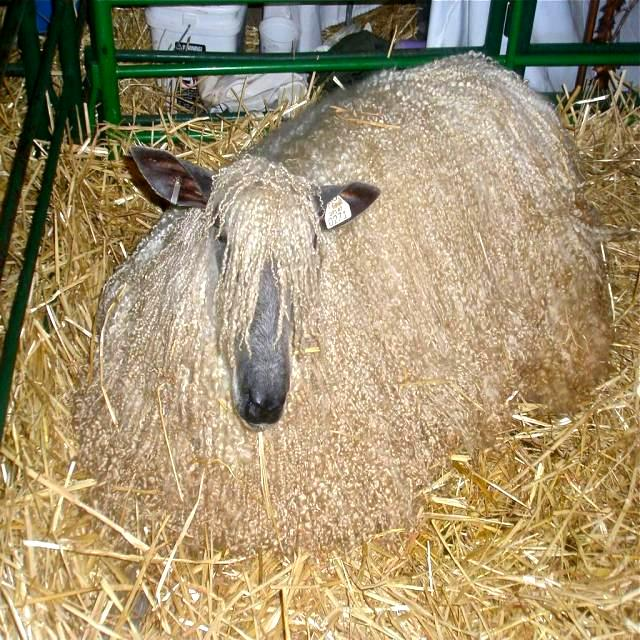sheep: (79, 53, 599, 552)
